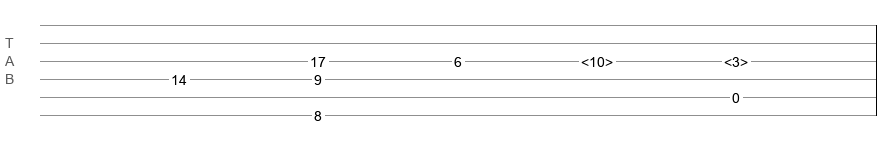0: (732, 90, 740, 100)
14: (171, 72, 187, 82)
17: (310, 54, 326, 64)
6: (454, 54, 462, 64)
8: (314, 108, 322, 118)
9: (314, 72, 322, 82)
harmonic: (581, 54, 613, 64), (724, 54, 748, 64)
